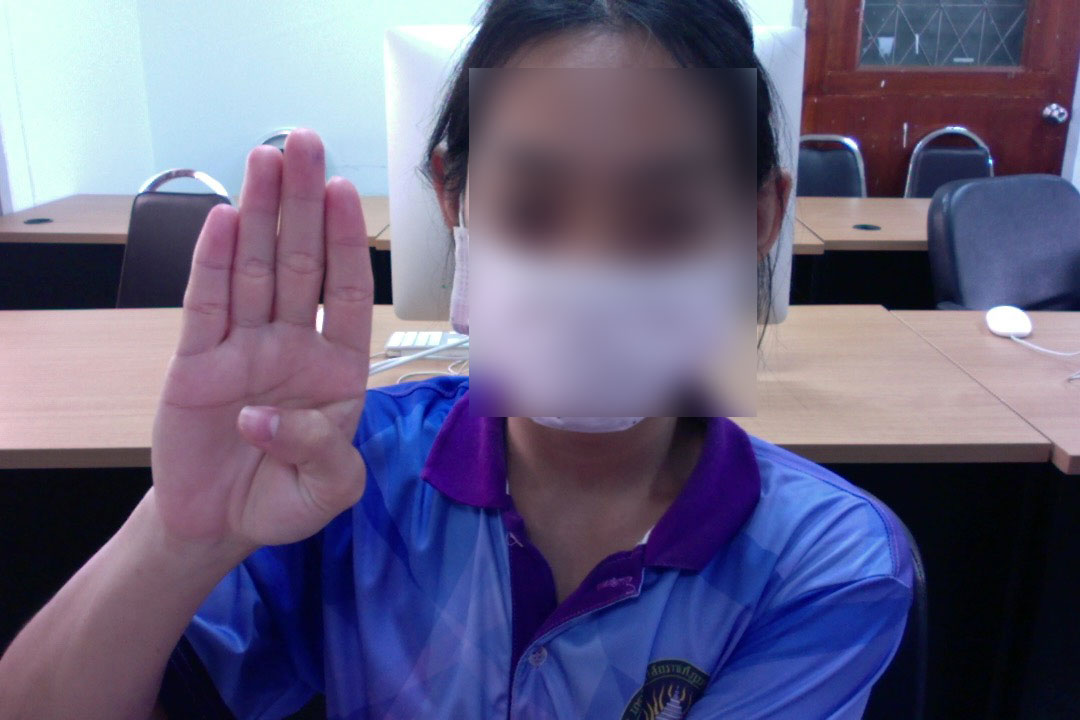bor: (145, 114, 384, 571)
